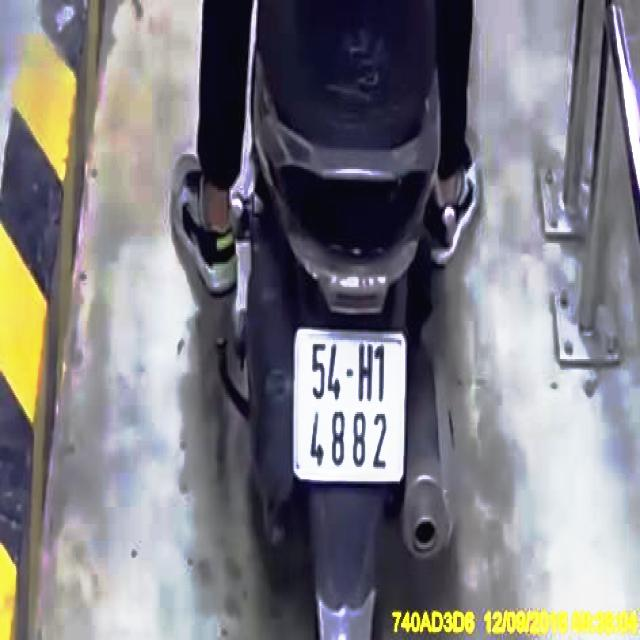license_plate: (297, 332, 407, 482)
